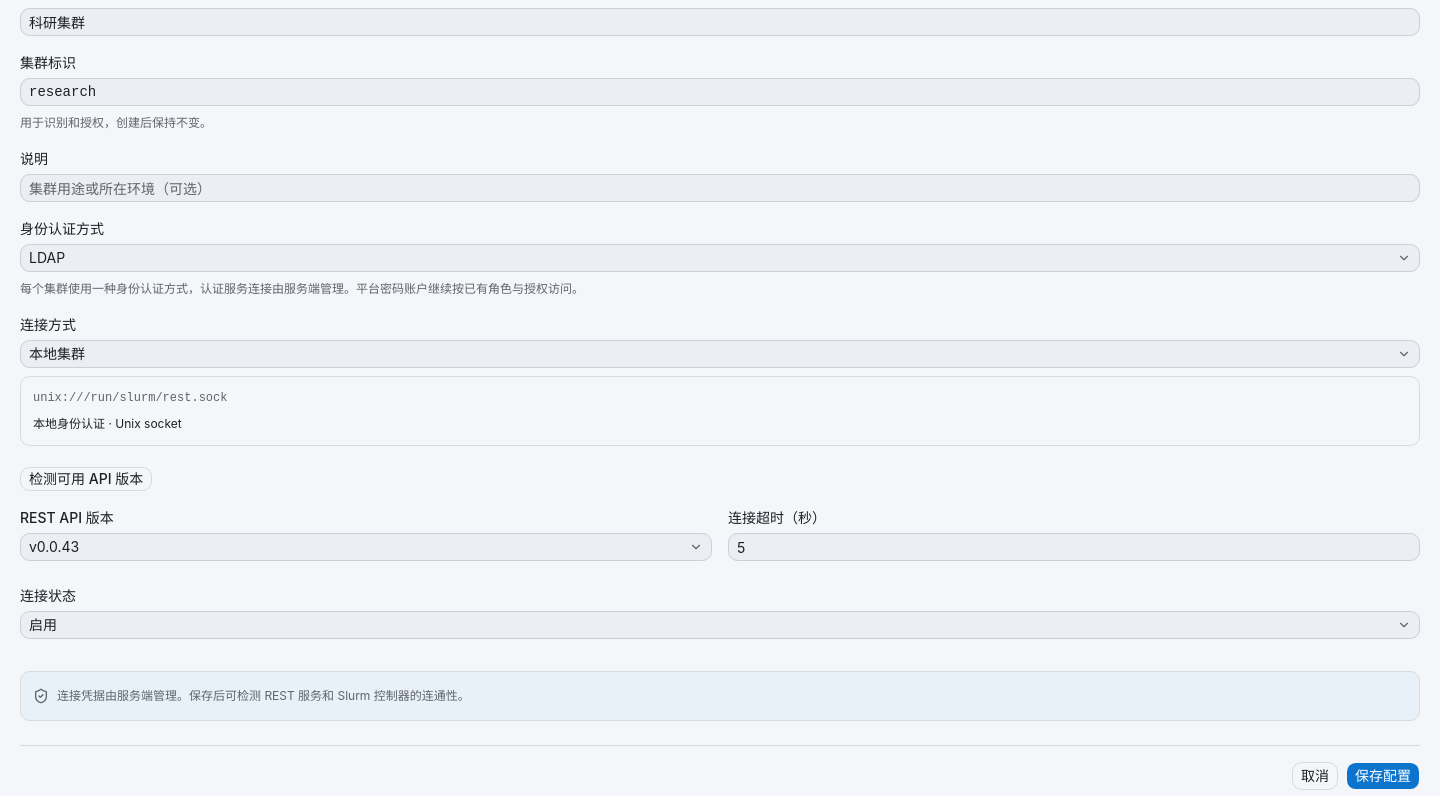
Test: 集群连接配置 › 版本检测失败时保留原版本并允许手动保存
Step 1. Click the button "检测可用 API 版本" → x=86, y=479, box [20,467,152,491]
(page scrolled)
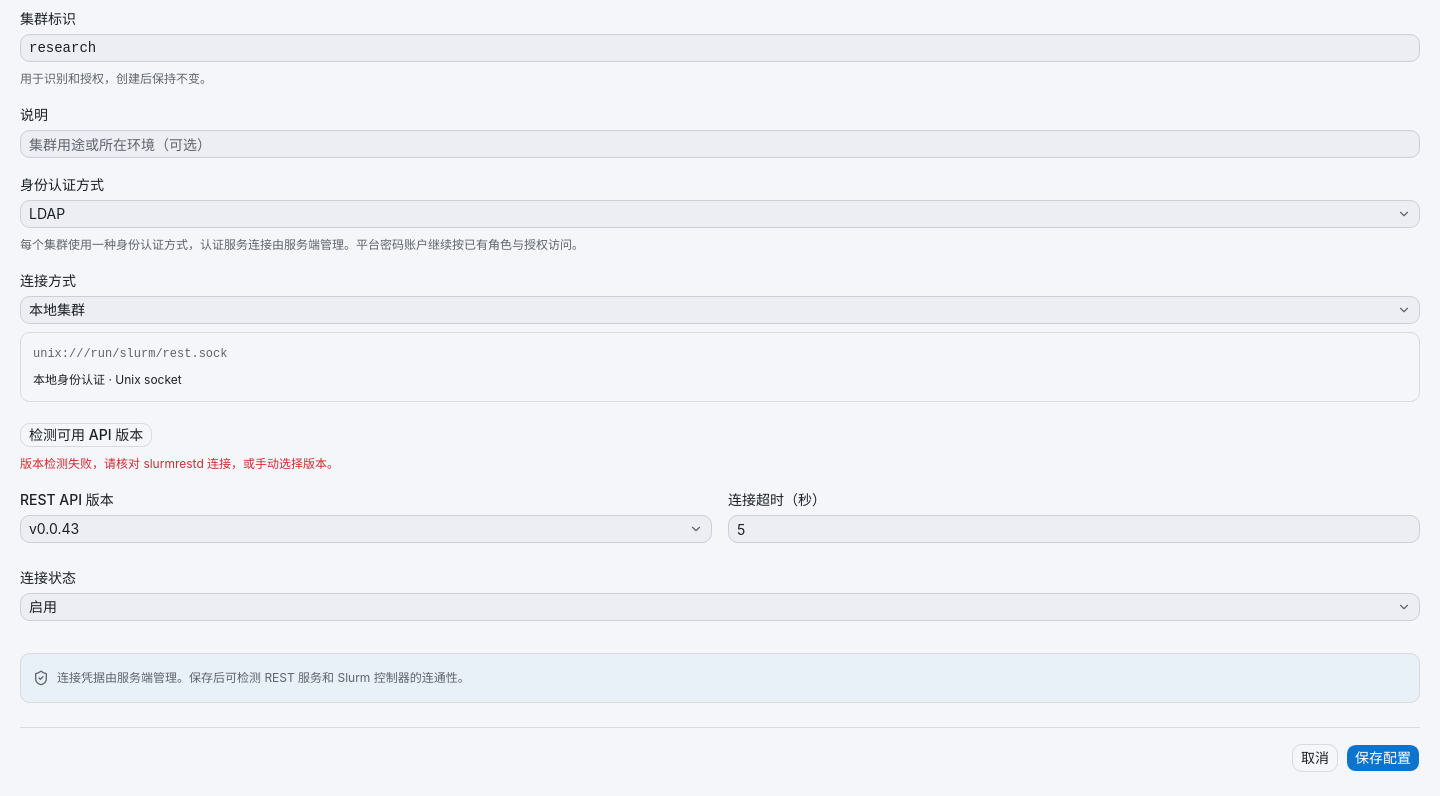
Expected: the dropdown named "REST API 版本" reads "v0.0.43", [20,515,712,543]
Now the message shows "版本检测失败", box [20,456,339,471]
